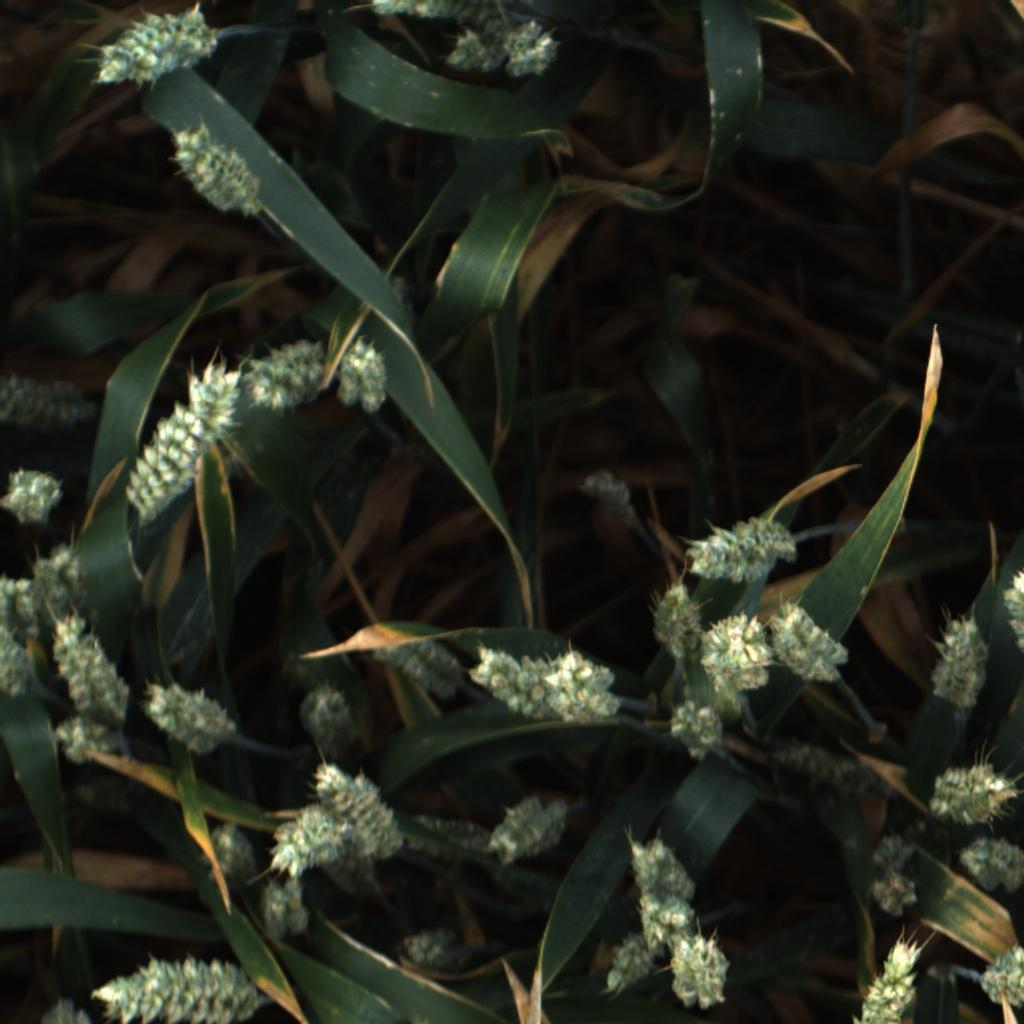0-0: (121, 352, 244, 518), (96, 949, 265, 1024), (94, 5, 218, 91), (680, 511, 802, 594), (312, 762, 409, 866), (46, 613, 133, 723), (142, 674, 242, 760), (171, 124, 260, 220), (767, 735, 898, 800), (915, 613, 993, 713), (369, 631, 473, 704), (470, 646, 562, 725), (843, 939, 925, 1024), (769, 601, 849, 687), (488, 787, 571, 869), (392, 910, 484, 982), (245, 335, 327, 415), (624, 885, 728, 947), (927, 764, 1023, 831), (262, 803, 347, 877), (541, 648, 623, 724), (622, 825, 704, 901), (4, 367, 97, 434), (698, 616, 774, 697), (397, 809, 504, 866), (576, 459, 648, 542), (641, 579, 705, 667), (332, 333, 399, 415), (667, 931, 737, 1007), (295, 678, 361, 758), (951, 831, 1024, 895), (0, 465, 68, 532), (316, 835, 384, 902), (666, 694, 729, 764), (596, 925, 656, 998), (197, 818, 261, 886), (257, 876, 318, 946), (27, 546, 90, 611), (494, 17, 560, 79), (0, 619, 45, 706), (978, 935, 1024, 1011), (443, 21, 504, 76), (49, 713, 113, 765), (414, 0, 516, 28), (996, 562, 1024, 658), (868, 870, 918, 919), (0, 574, 42, 630), (866, 828, 916, 875), (34, 996, 97, 1024), (369, 0, 417, 18)
